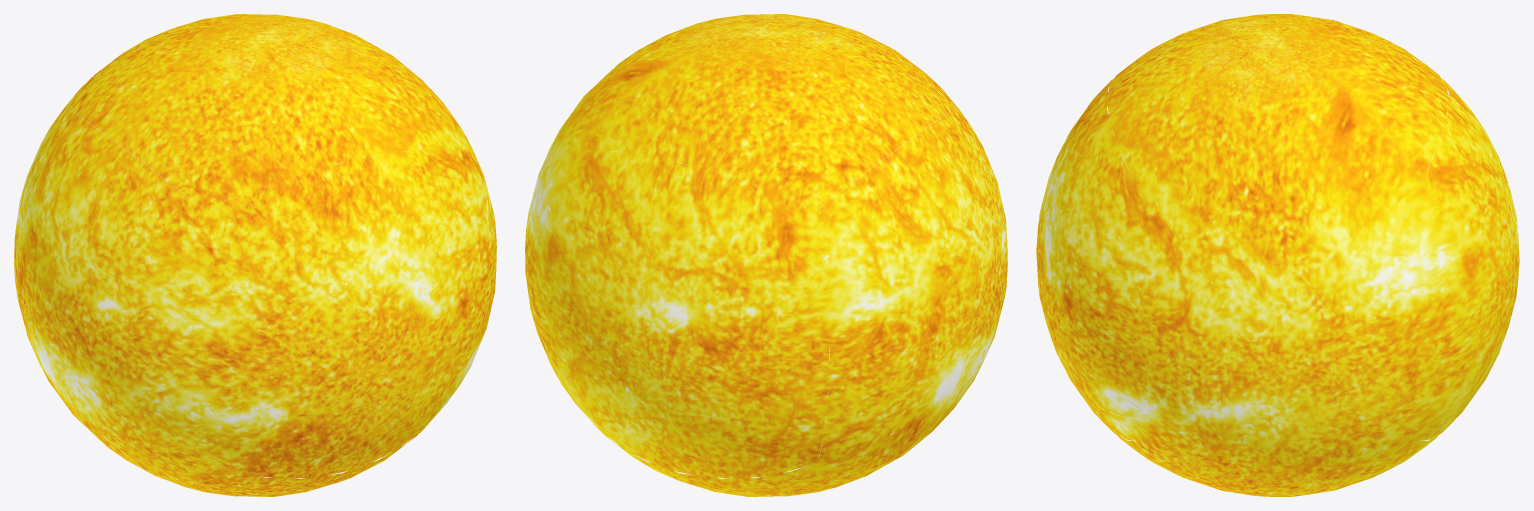
The model's file is Sun_1_1391000.glb.
3 renders of one model, left to right at view 1: azimuth 30°, elevation 25°; view 2: azimuth 150°, elevation 25°; view 3: azimuth 270°, elevation 25°, orthographic.
Visible parts, largest first — view 1: Cube.001; view 2: Cube.001; view 3: Cube.001.
Boxes of the visible parts, bbox=[...] form: Cube.001: bbox=[14, 14, 496, 496]; Cube.001: bbox=[525, 14, 1007, 496]; Cube.001: bbox=[1036, 14, 1519, 496].
Bounding box in the file's own units: 1000 × 1000 × 1000.
Materials: 1 (1 with a texture image).
